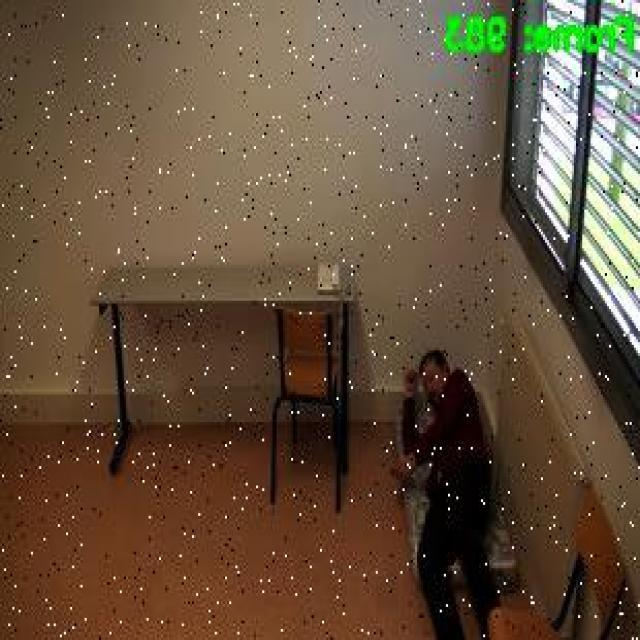fall: (380, 333, 508, 638)
